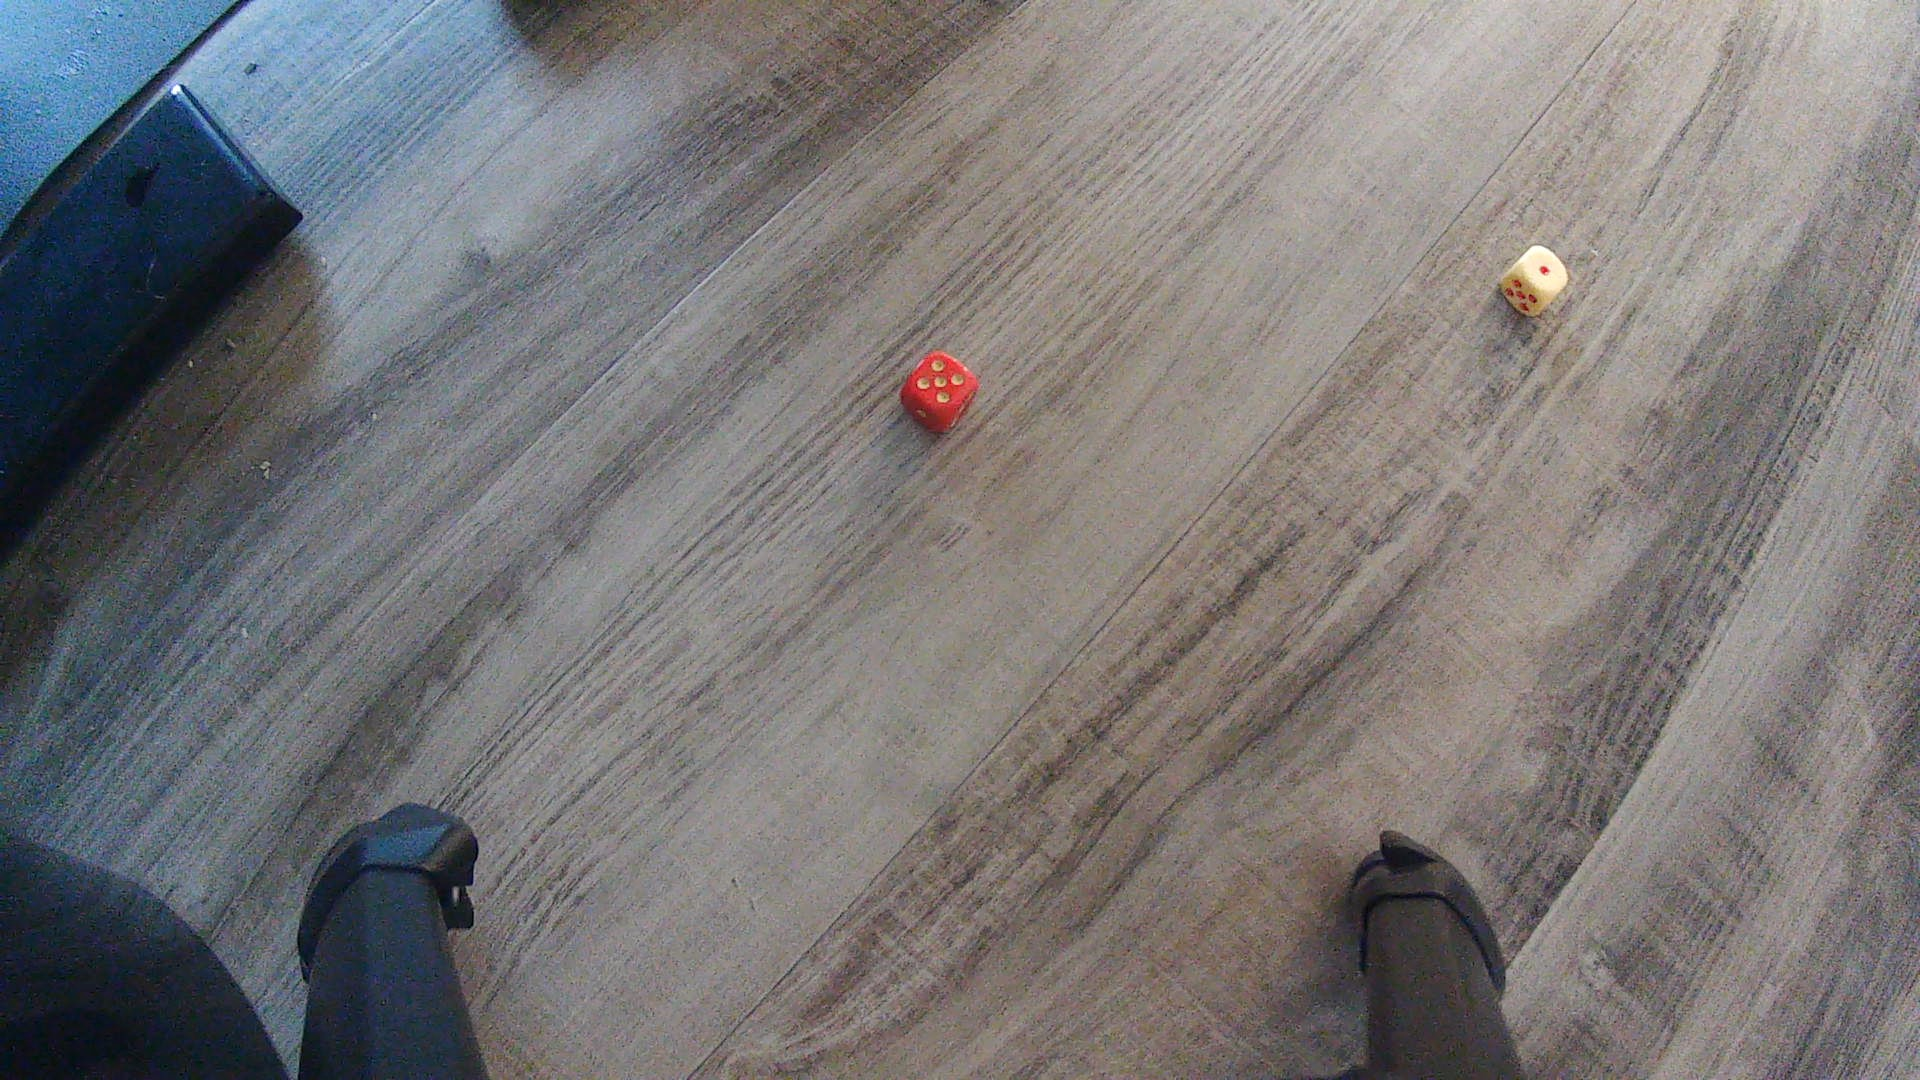die: (898, 349, 980, 434), (1497, 243, 1571, 318)
